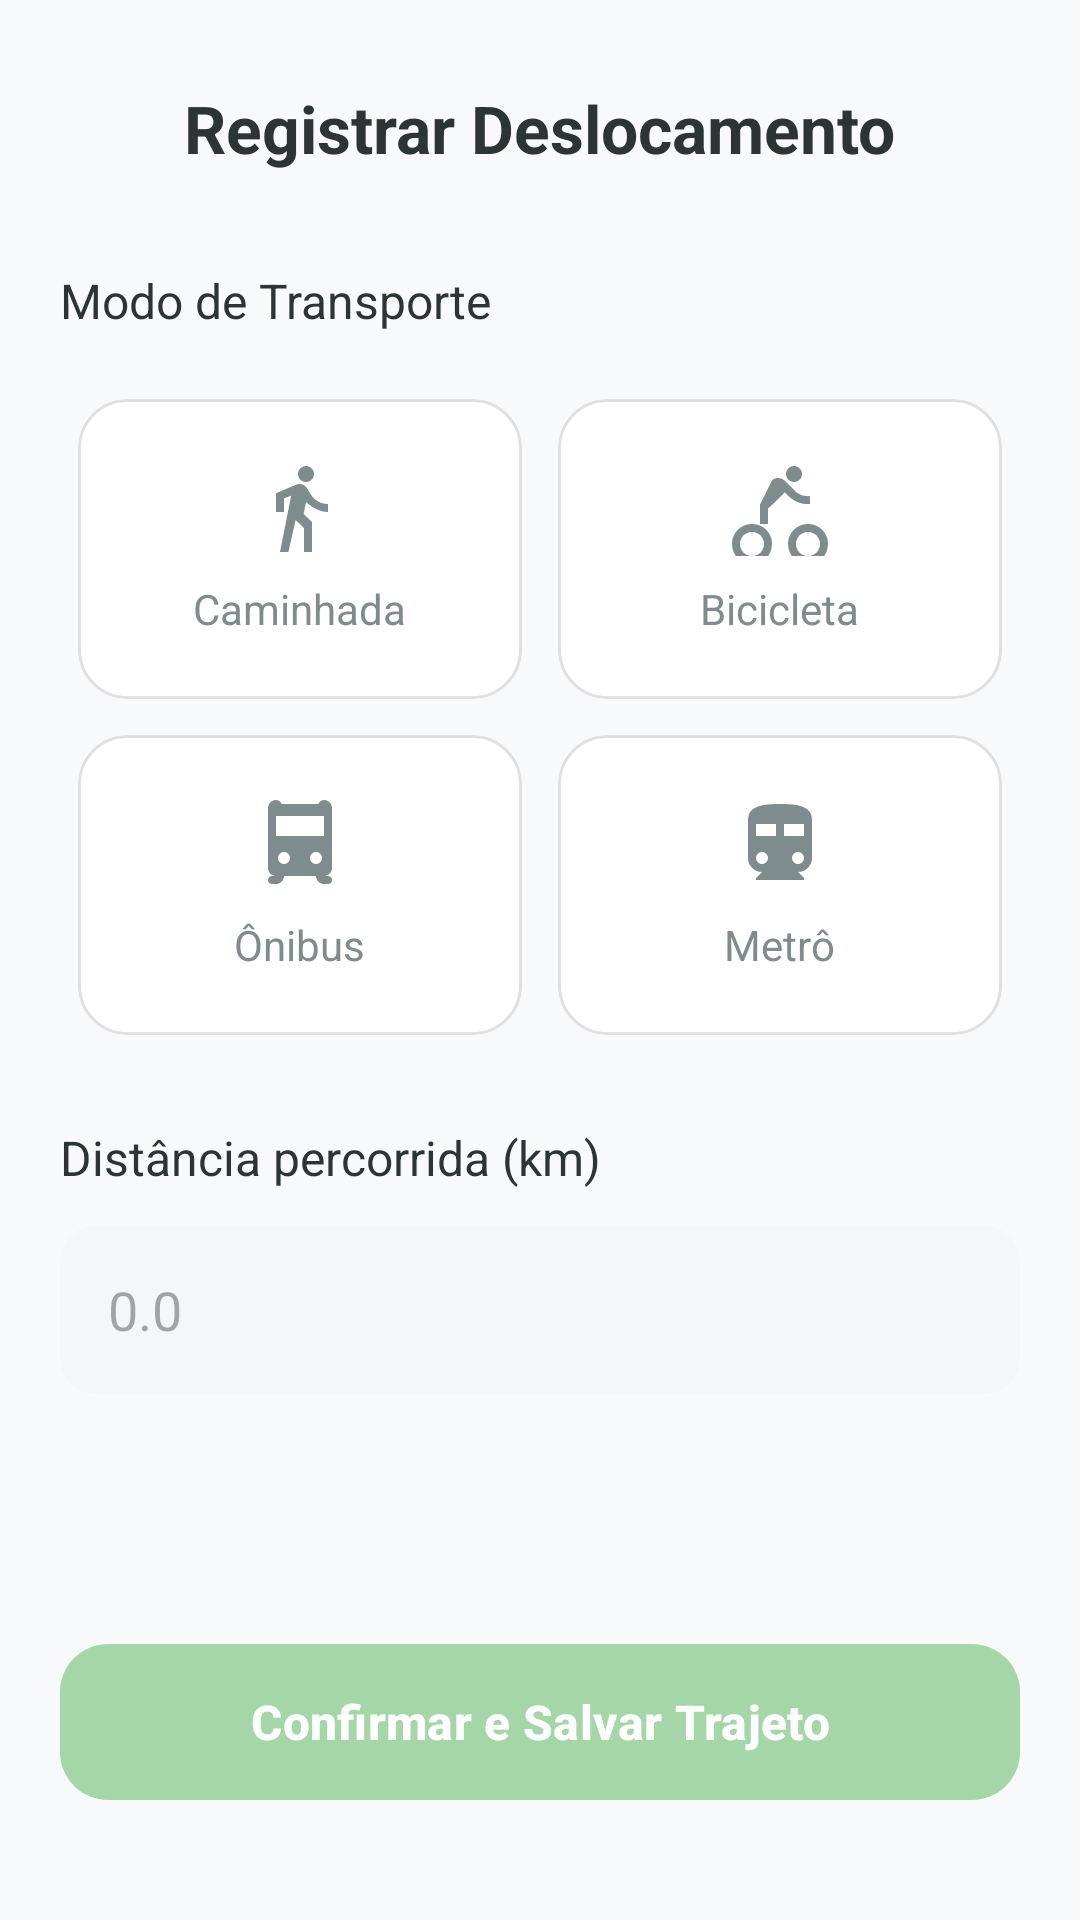

Where icons sit on this 1080×1920 app screen, as region(x1, y1, x2, y2):
metro: region(748, 804, 812, 880)
